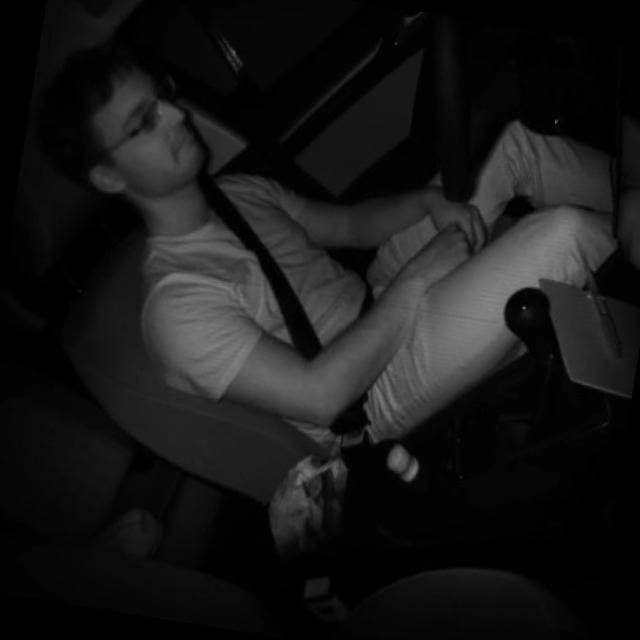pen: (570, 258, 640, 366)
